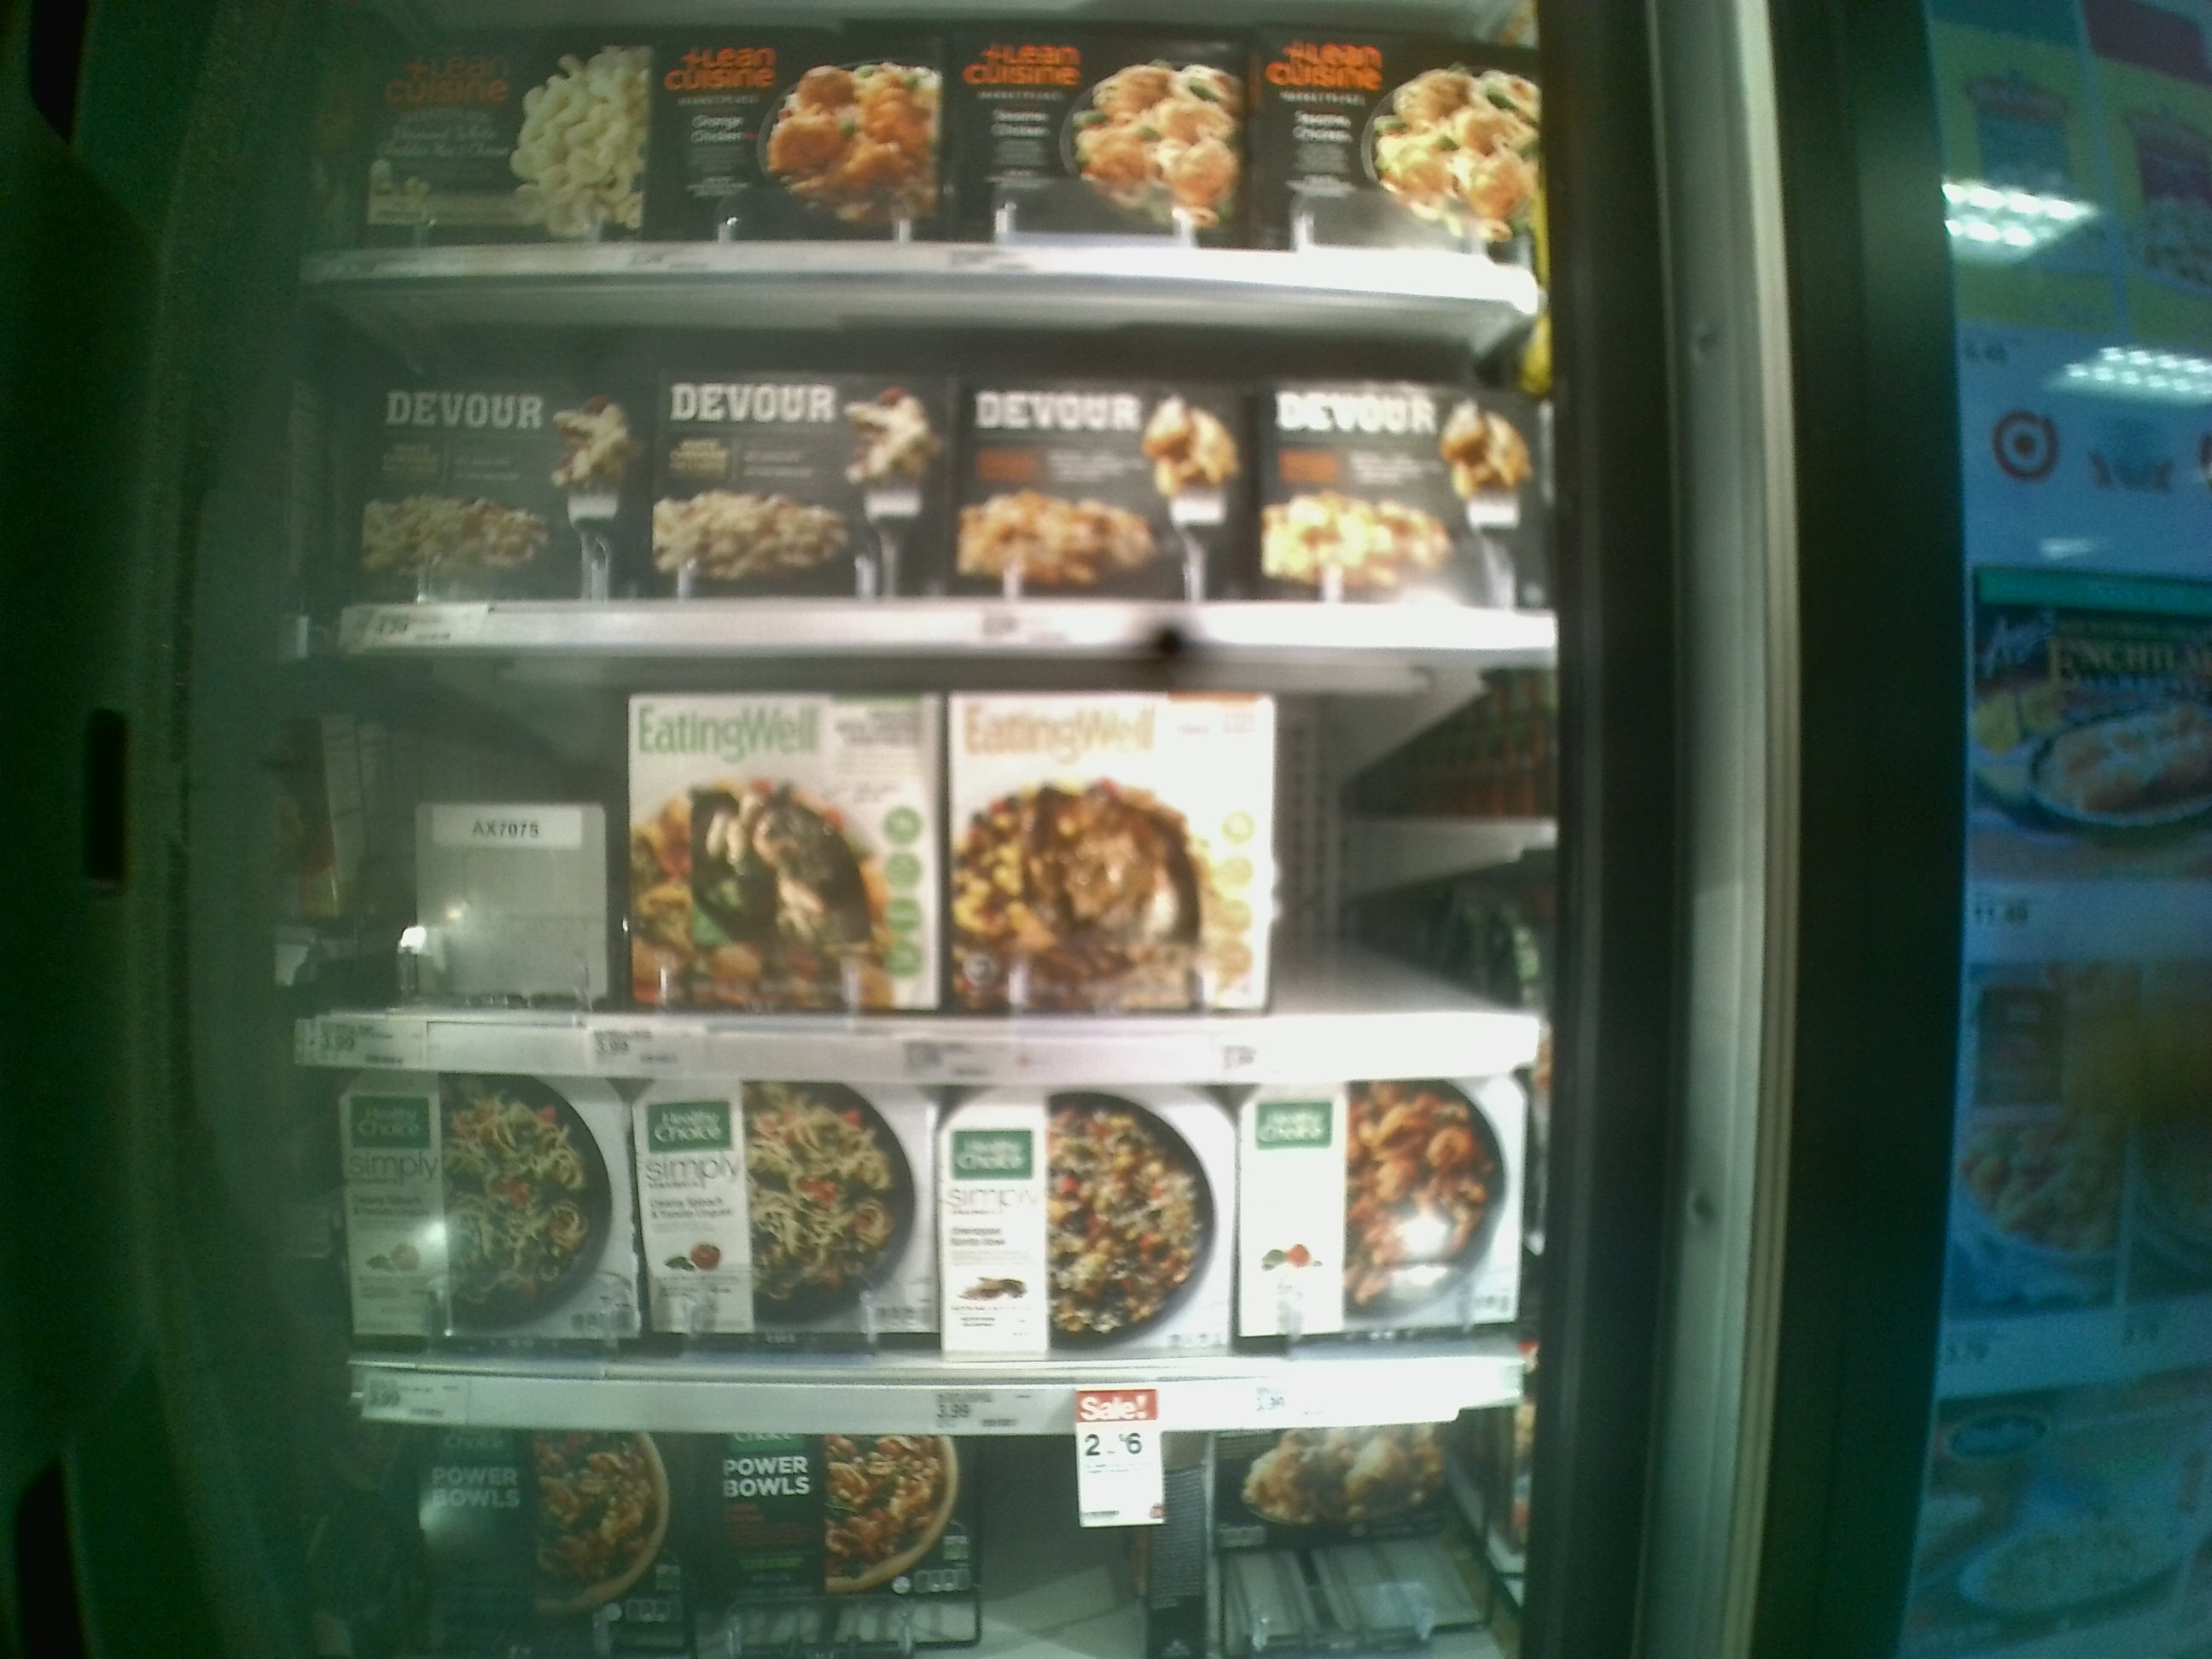pizza: (948, 681, 1282, 1014), (622, 701, 948, 1011), (923, 1084, 1245, 1356), (643, 1075, 939, 1351), (340, 1089, 648, 1342), (1237, 1079, 1529, 1340), (928, 14, 1259, 244), (954, 376, 1263, 608), (643, 369, 941, 591), (406, 1431, 698, 1652), (355, 366, 636, 596), (1264, 28, 1547, 256), (362, 33, 653, 240), (1261, 389, 1538, 603), (662, 33, 954, 234), (716, 1441, 974, 1657)
